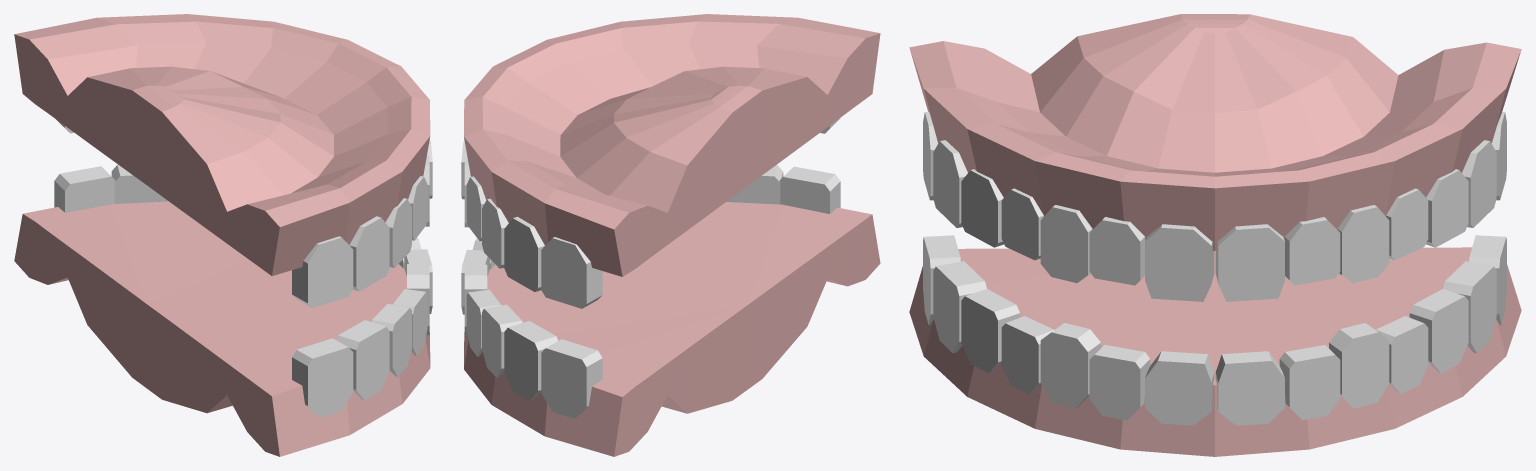
File: dentures01.fbx
The picture shows the model from 3 angles, left to right: view 1: azimuth 30°, elevation 25°; view 2: azimuth 150°, elevation 25°; view 3: azimuth 270°, elevation 25°; orthographic projection. The views are drawn at different scales.
Parts seen in each view (by area): view 1: polySurface92; view 2: polySurface92; view 3: polySurface92.
Part boxes in pixels (box(x1,y1,x2,y2)): polySurface92: box(14, 14, 432, 456); polySurface92: box(461, 14, 880, 456); polySurface92: box(909, 14, 1521, 456).
Size of the model in its own units: 1.18 by 1.29 by 2.13.
